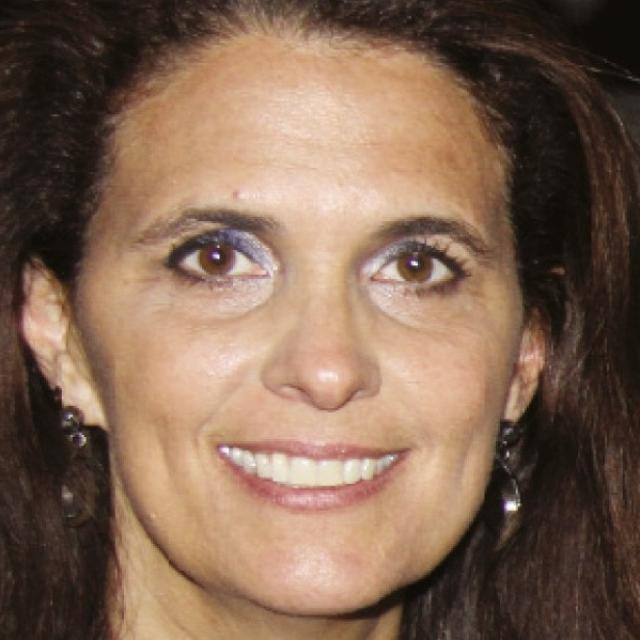Normal: (68, 30, 526, 621)
